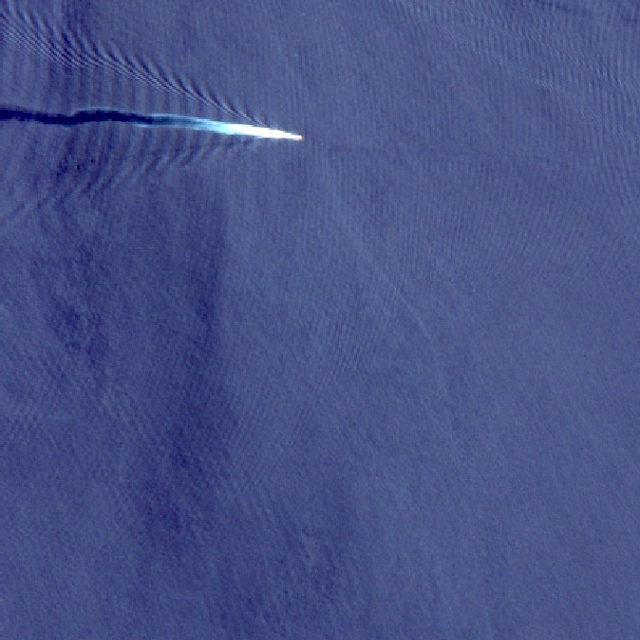wake: (99, 45, 315, 198)
